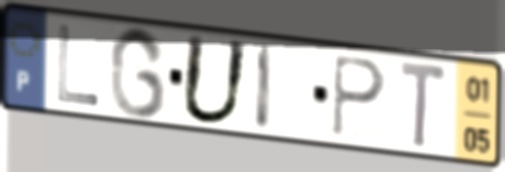G: (106, 24, 168, 122)
I: (253, 40, 276, 135)
L: (55, 21, 102, 109)
P: (330, 52, 389, 140)
T: (397, 57, 450, 153)
U: (177, 31, 253, 128)
